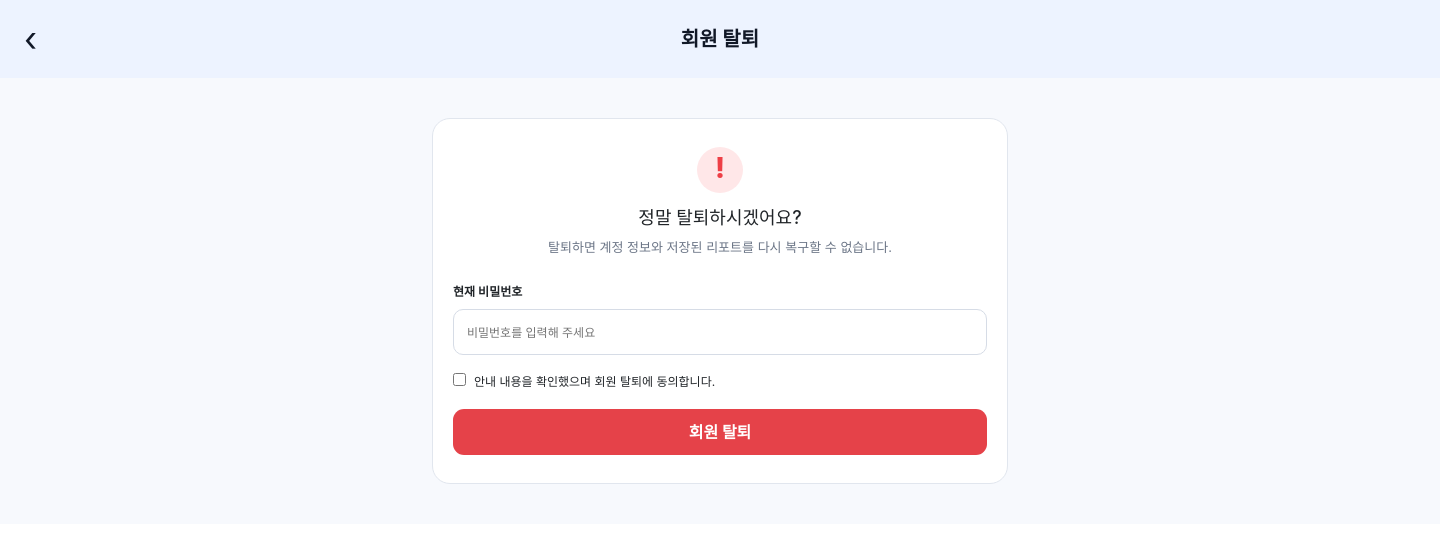
WithdrawView › 탈퇴 실패 메시지를 표시한다
This screenshot has width=1440, height=535.
In the password field labelled "현재 비밀번호": (720, 332) 453,309 -> 987,355, type "wrong"
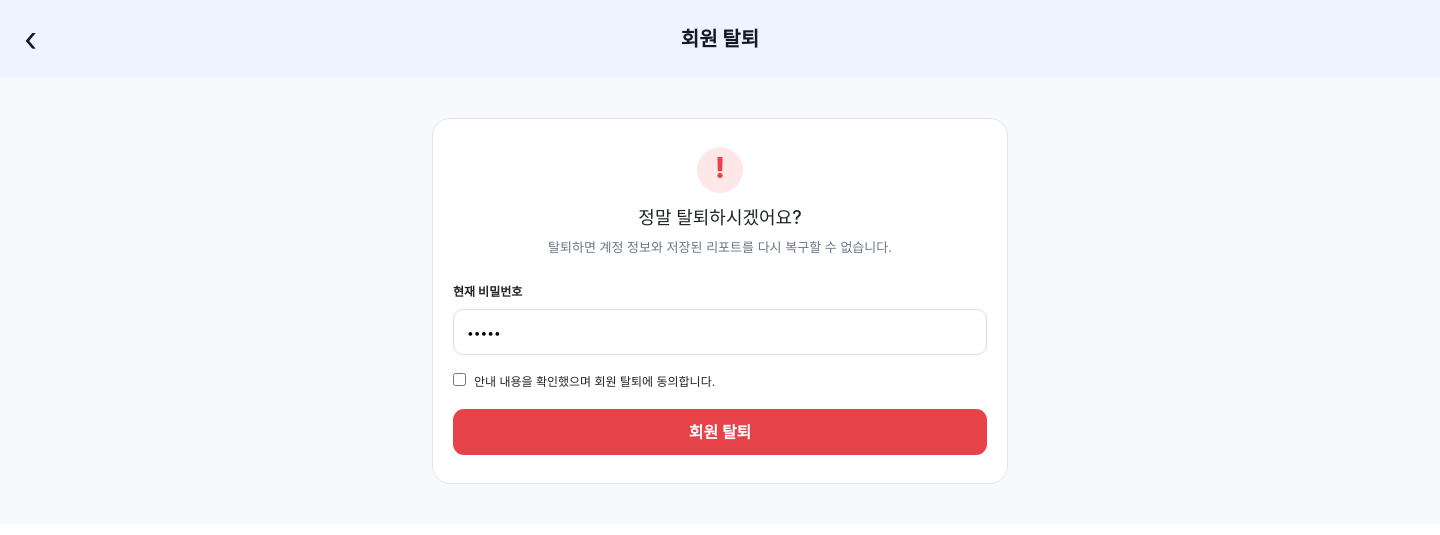
Click the checkbox labelled "안내 내용을 확인했으며 회원 탈퇴에 동의합니다.": (460, 380) 453,373 -> 466,386
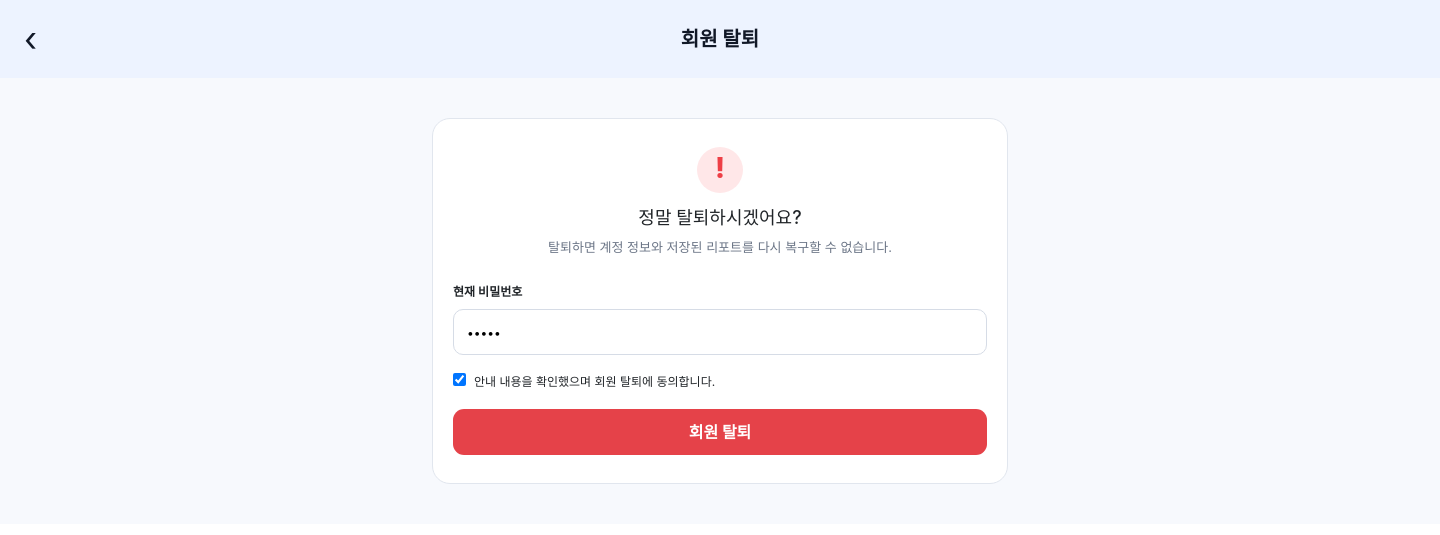
Submit the form, box 453,283 -> 987,455
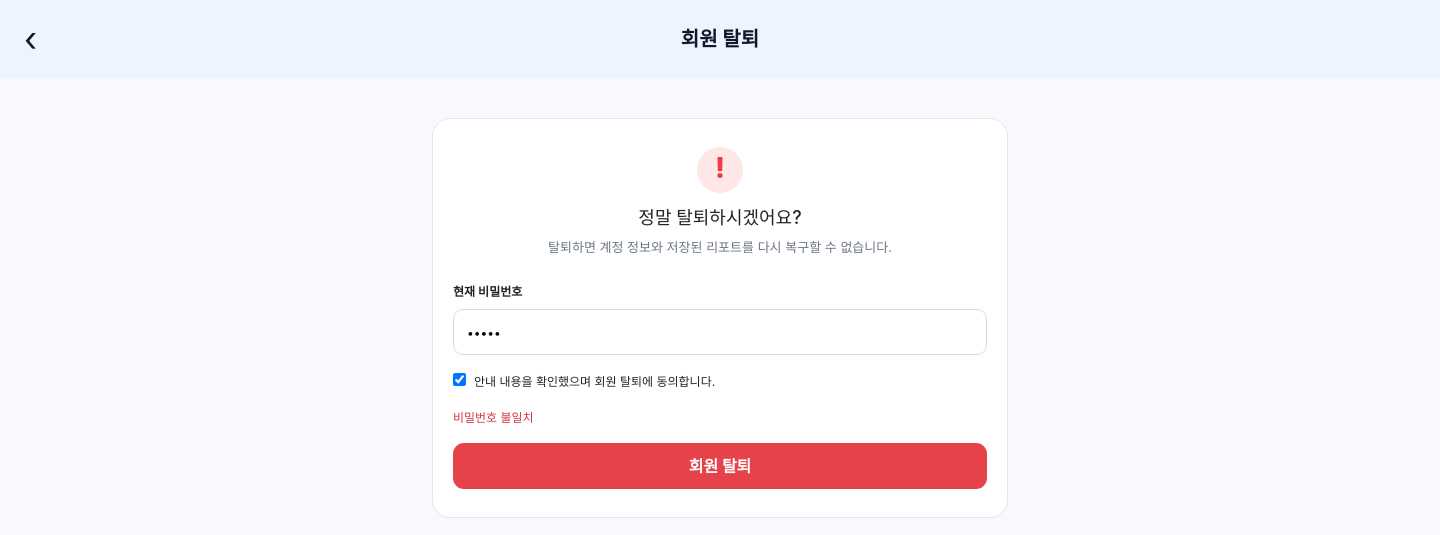
Expected: the submit button is enabled, 453,443 -> 987,489
Expected: the message "비밀번호 불일치" is shown, 453,410 -> 534,425
